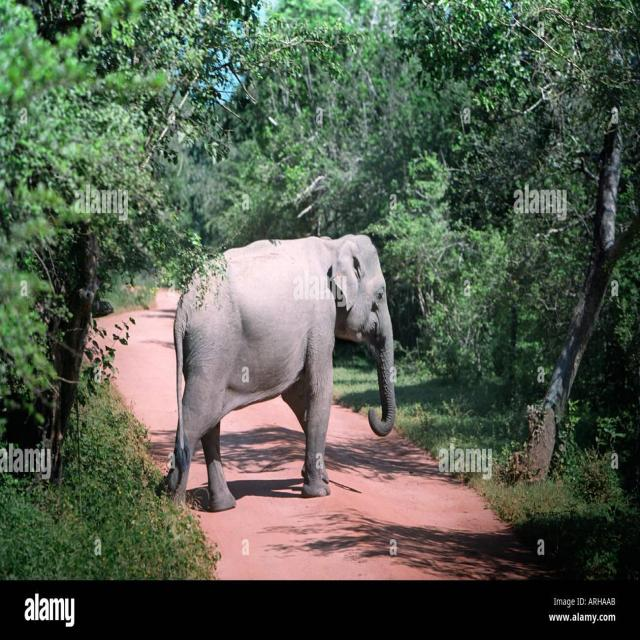Elephant: (158, 226, 411, 514)
